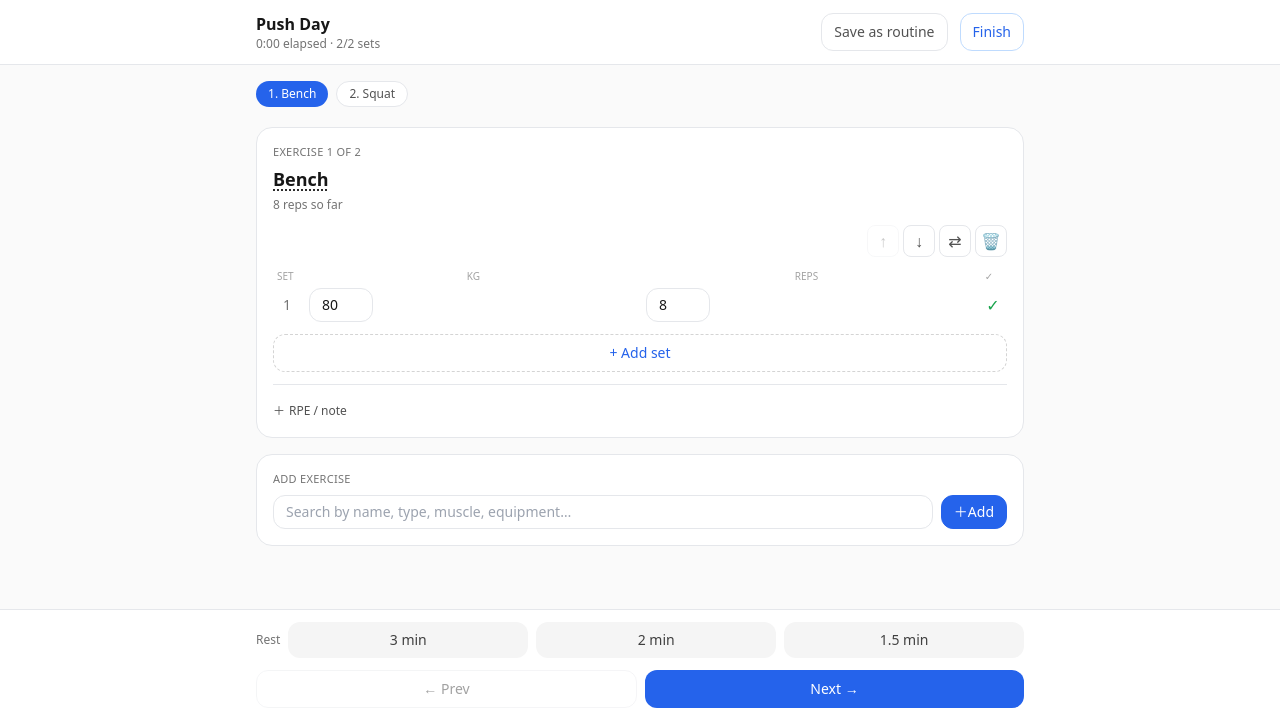
Test case: LiveSession › removes the current exercise after confirming
The image size is (1280, 720).
Expected: the text "Exercise 1 of 2" is shown, [273,144,361,159]
Click the button named "Remove exercise" at (991, 240), box [975,224,1007,256]
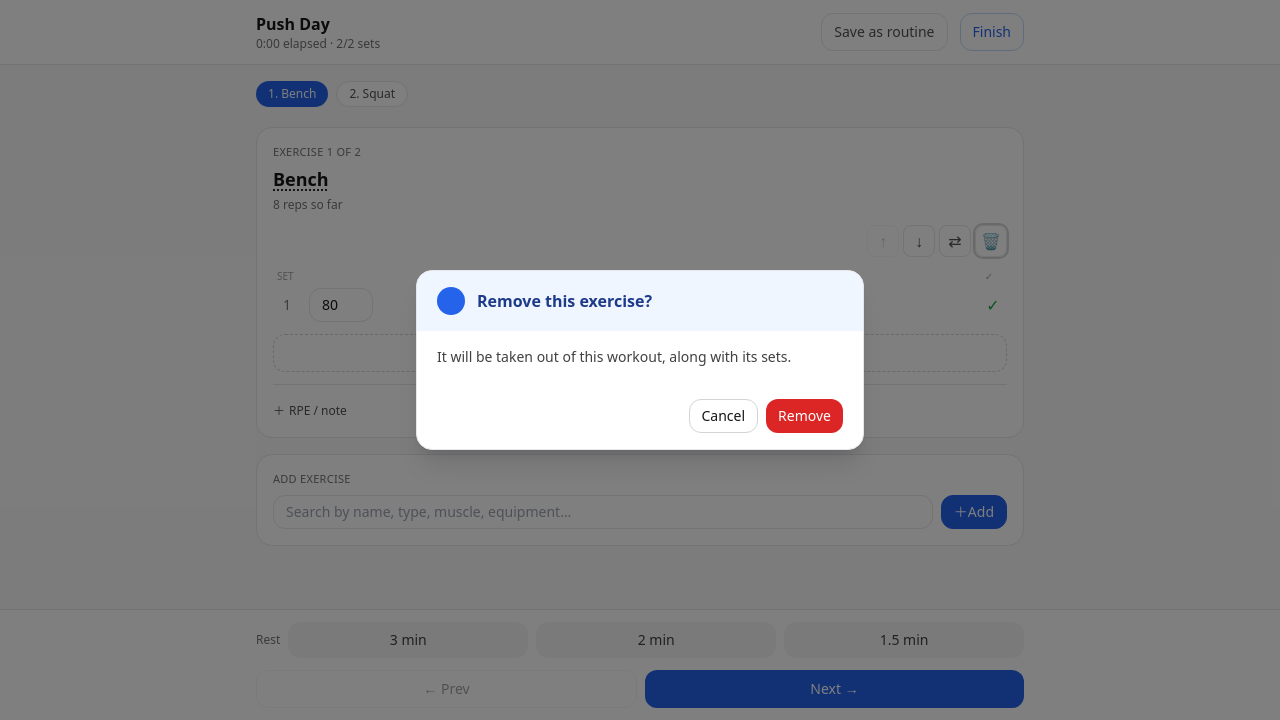
Note: Confirm in the dialog.
Click the button "Remove" at (805, 416), box [766,399,843,433]
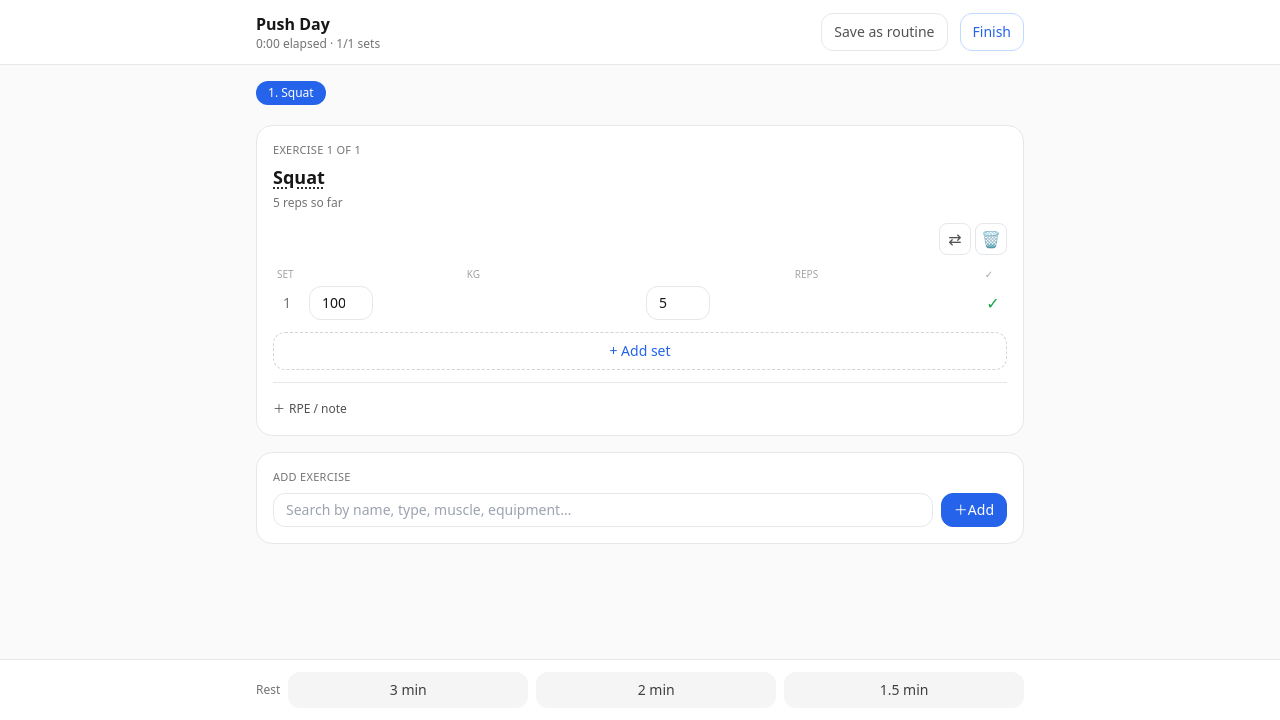
Expected: the text "Exercise 1 of 1" is shown, [273,142,361,157]
Expected: the button "Bench" is gone
Expected: the button "Squat" is shown, [273,162,325,190]
